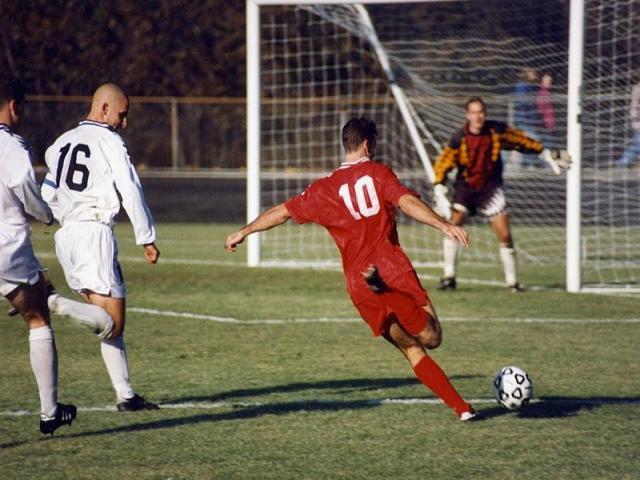round ball: (492, 366, 532, 409)
